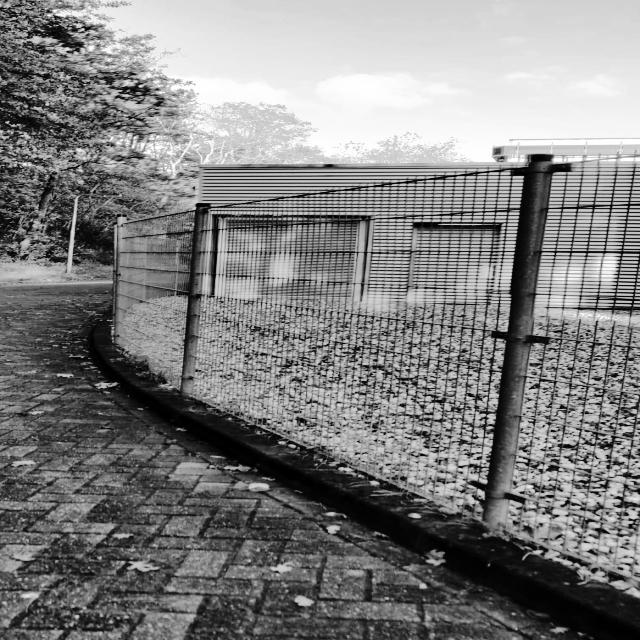fences: (318, 158, 640, 560), (107, 215, 258, 404)
